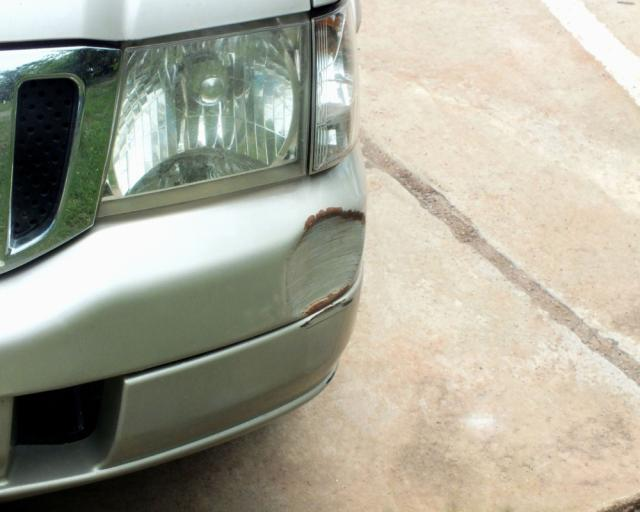dent: (283, 212, 365, 317)
scratch: (300, 298, 355, 331)
